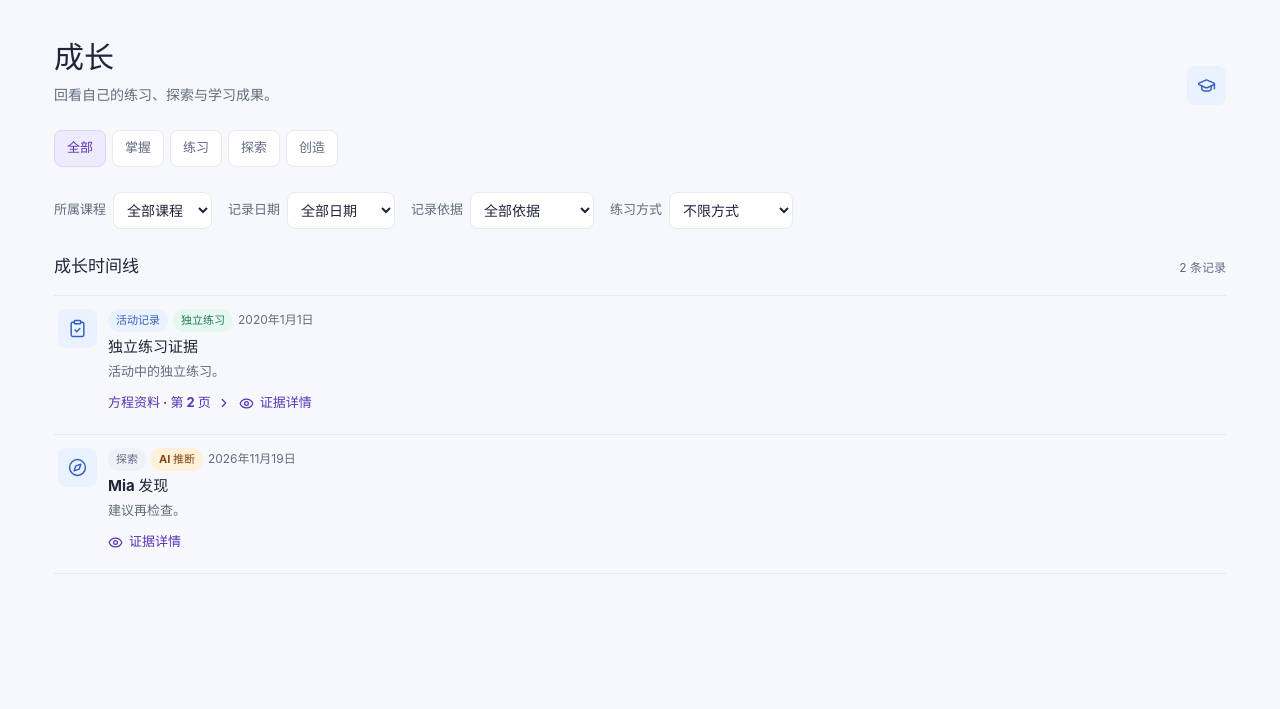
it: opens evidence details and keeps its source, task, and artifact links distinct
Click the button with aria-label "证据详情：独立练习证据" at (275,403), box [239,386,312,420]
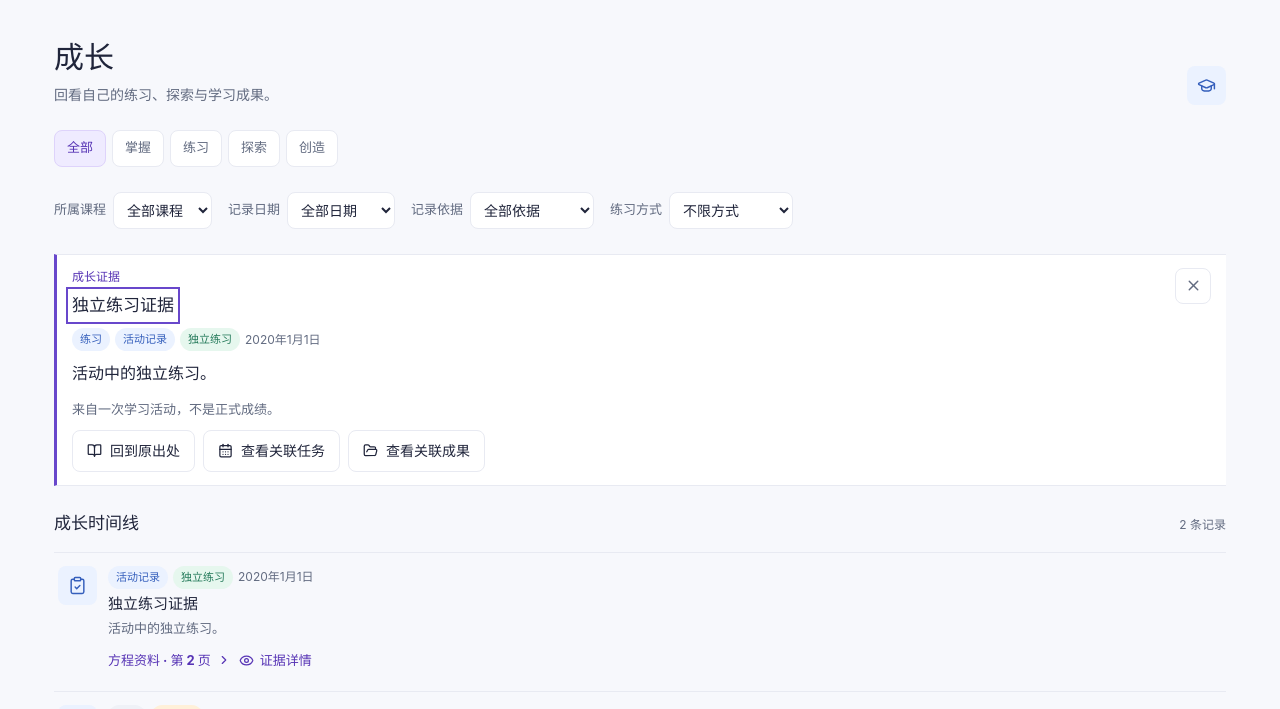
Select "ai-inference" in the dropdown labelled "记录依据" at (532,210), box [470,192,594,228]
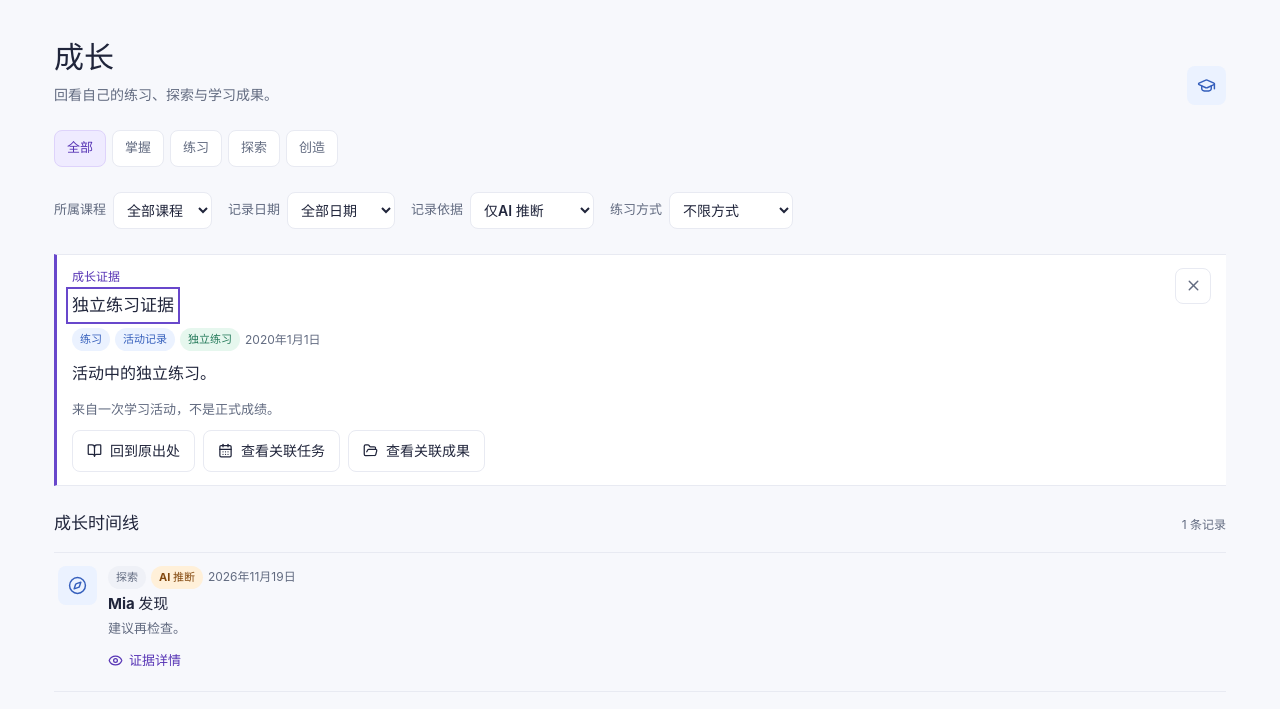
Expected: the heading "Mia 发现" is shown, [108,594,168,613]
Result: the button "证据详情：独立练习证据" is gone
Select "初中数学" in the dropdown labelled "所属课程" at (162,210), box [113,192,212,228]
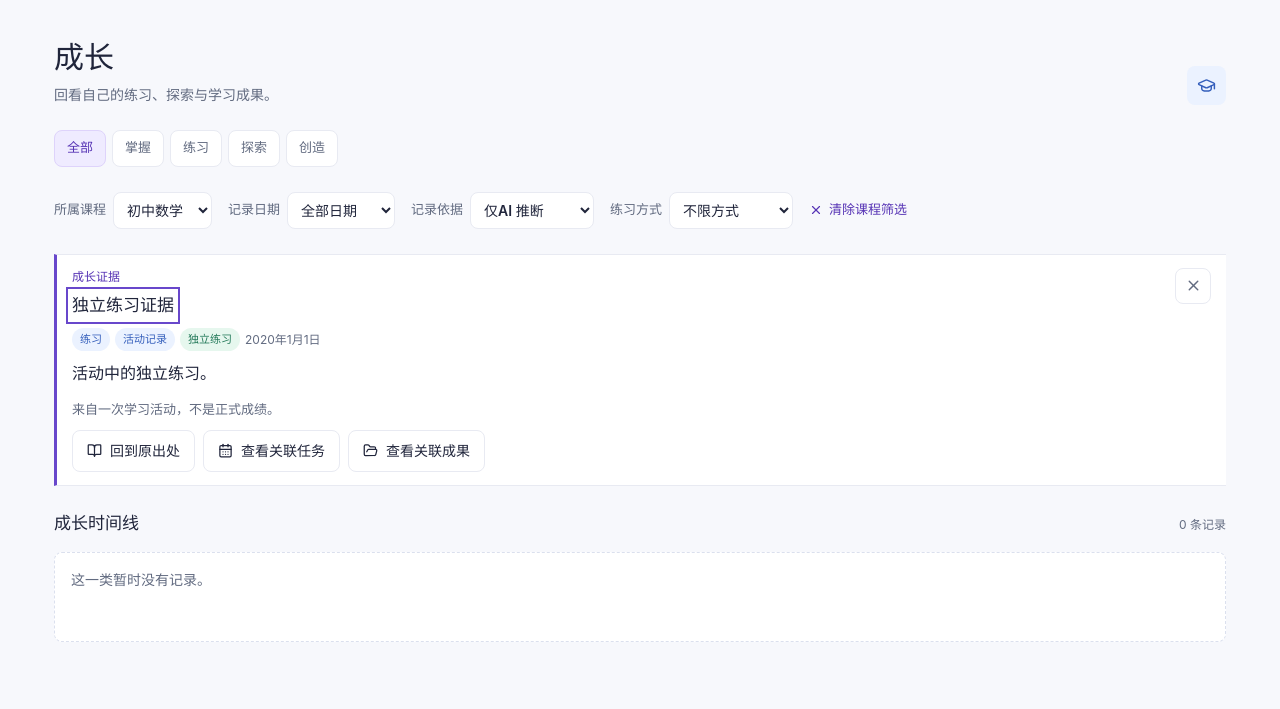
Result: the heading "Mia 发现" is gone
Select "全部依据" in the dropdown labelled "记录依据" at (532,210), box [470,192,594,228]
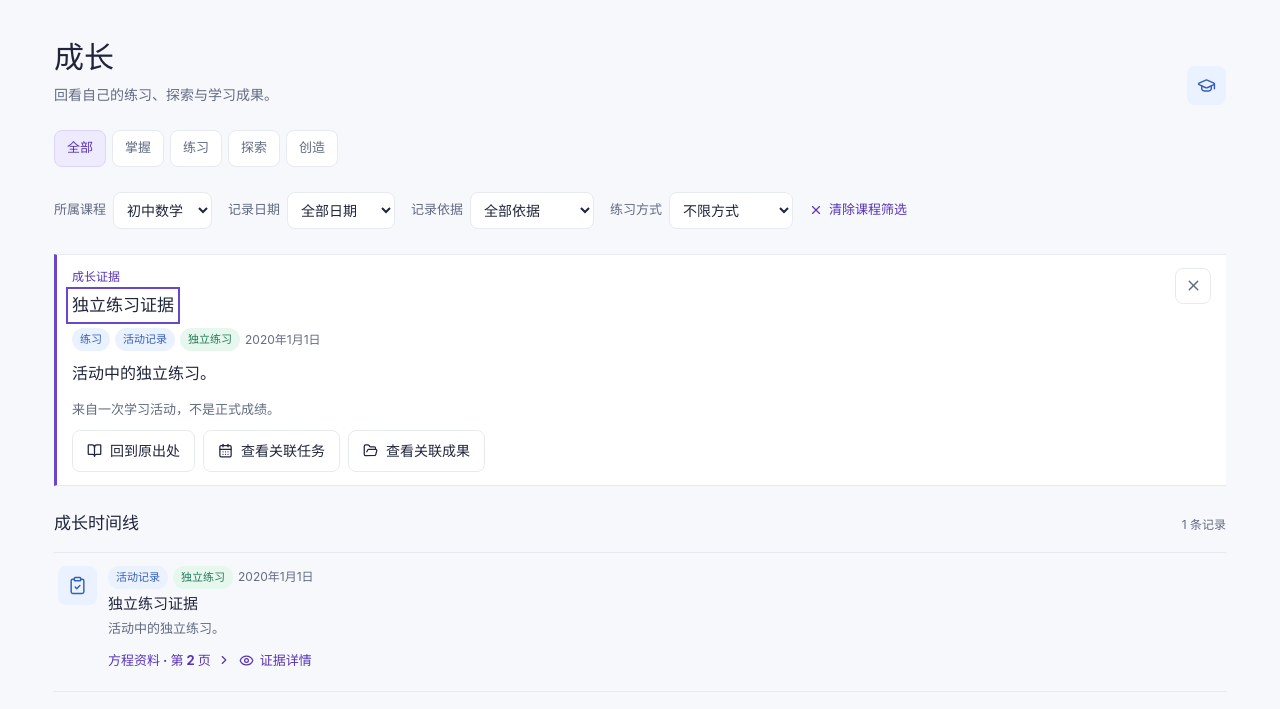
Result: the button with aria-label "证据详情：独立练习证据" is shown at [239,643,312,678]
Select "最近 7 天" in the dropdown labelled "记录日期" at (341,210), box [287,192,395,228]
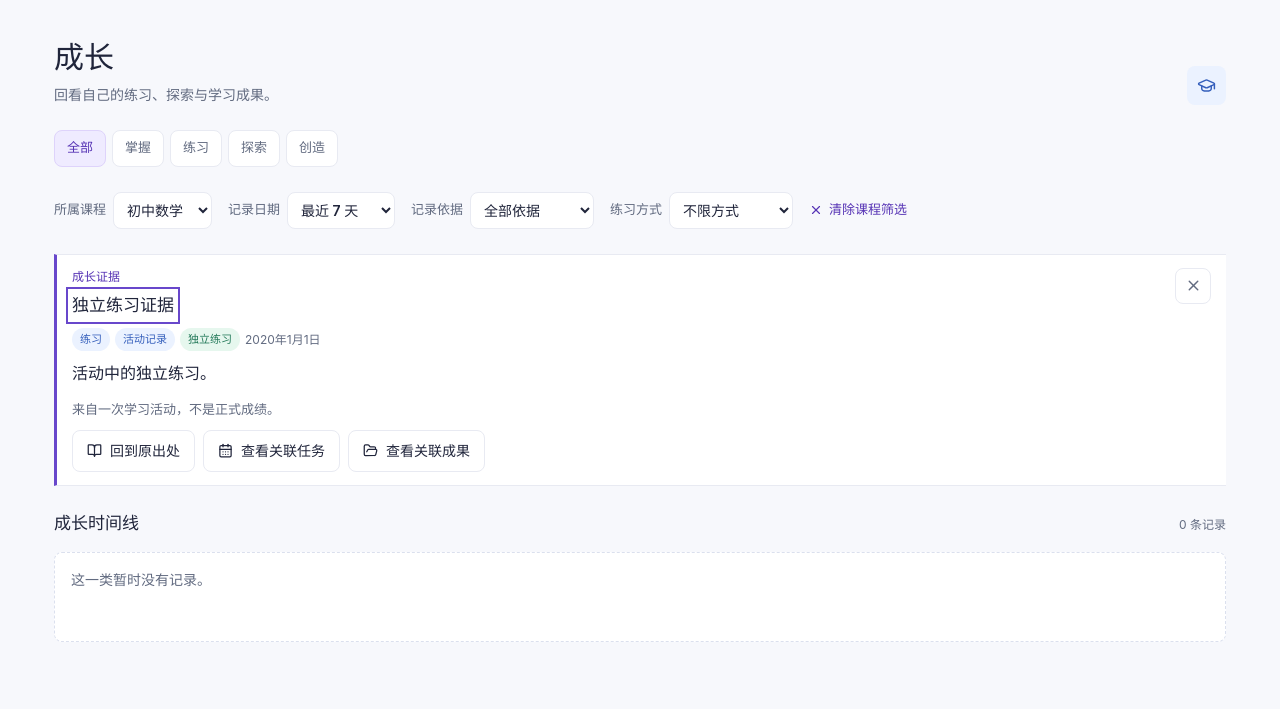
Result: the button "证据详情：独立练习证据" is gone
